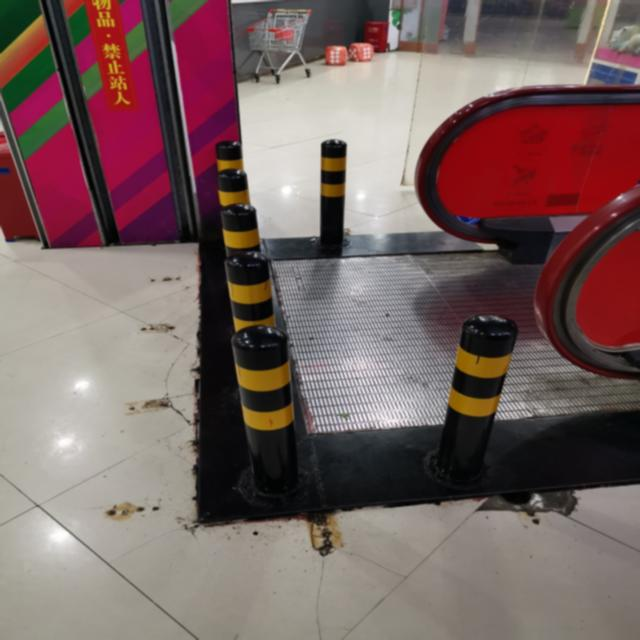warning_column: (420, 308, 520, 490), (231, 323, 300, 492), (217, 250, 279, 329), (318, 138, 350, 246), (218, 202, 262, 252), (215, 167, 252, 204), (214, 140, 244, 170)
